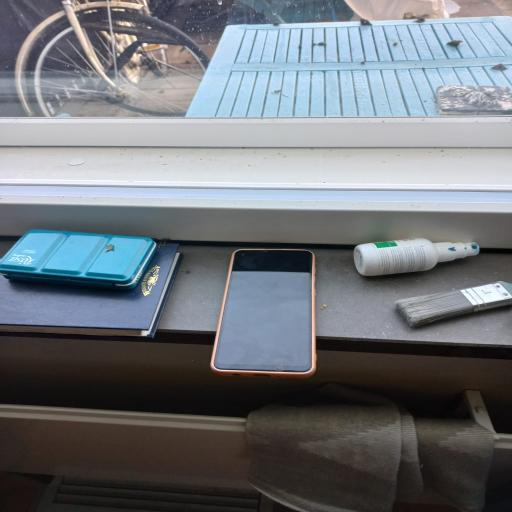phone: (211, 249, 315, 377)
